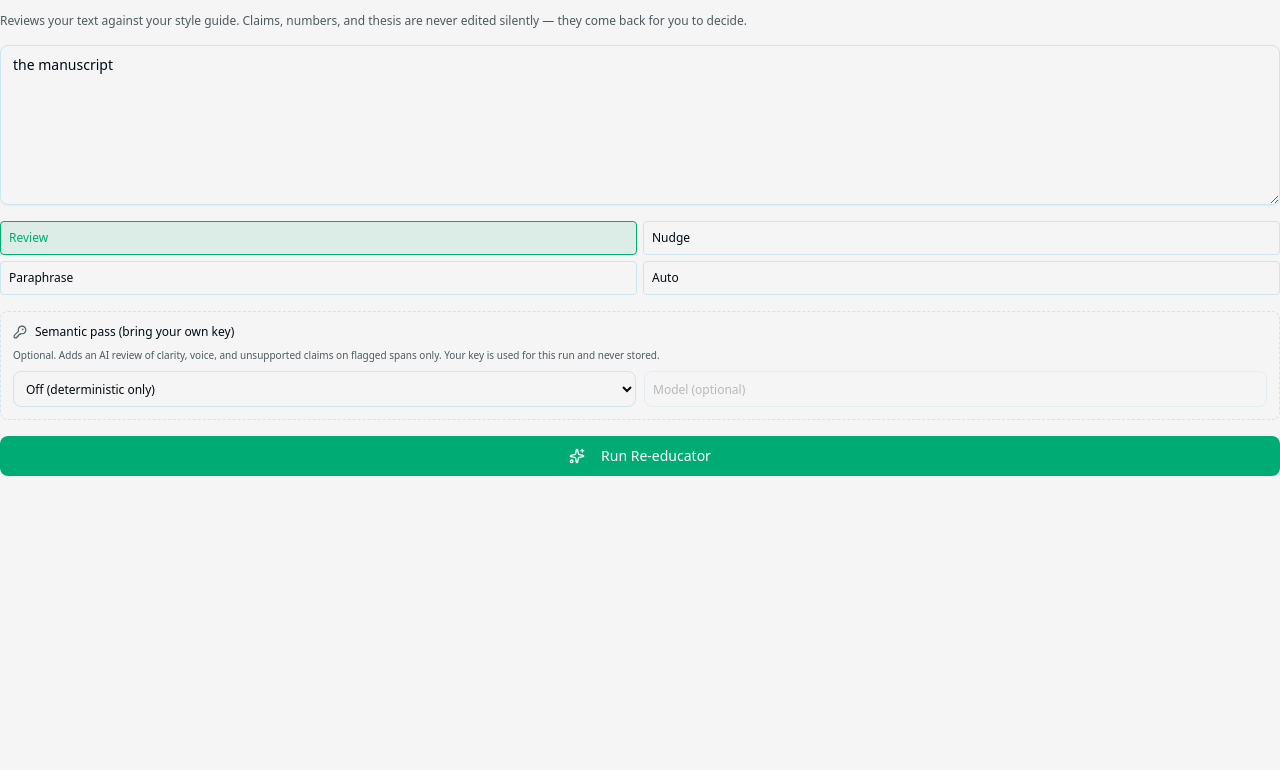
Test: ReEducatorPanel › shows a confirmable diff and applies the revised text on accept
This screenshot has width=1280, height=770.
Click the button "Run Re-educator" at (640, 456), box [0,436,1279,476]
(page scrolled)
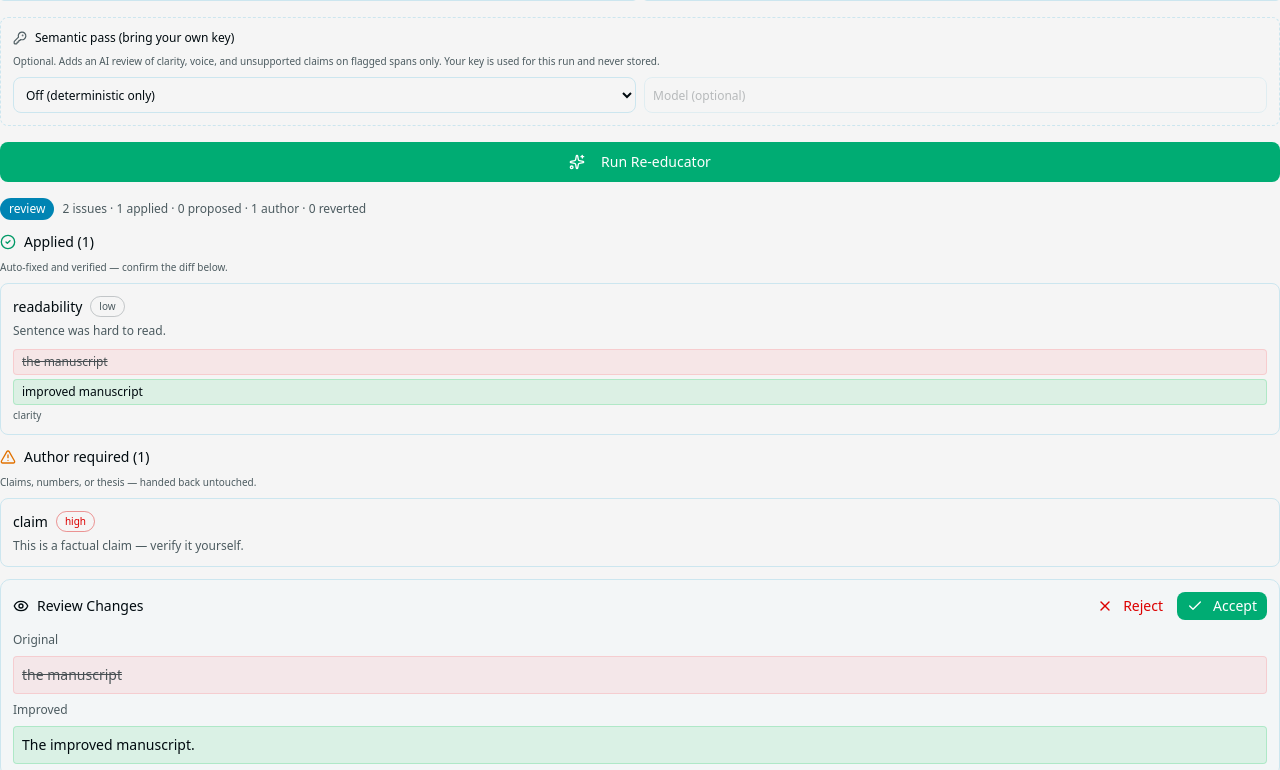
Expected: the text "Review Changes" is shown, [13,596,144,616]
Click the button "Accept" at (1222, 606), box [1177,592,1267,620]
(page scrolled)
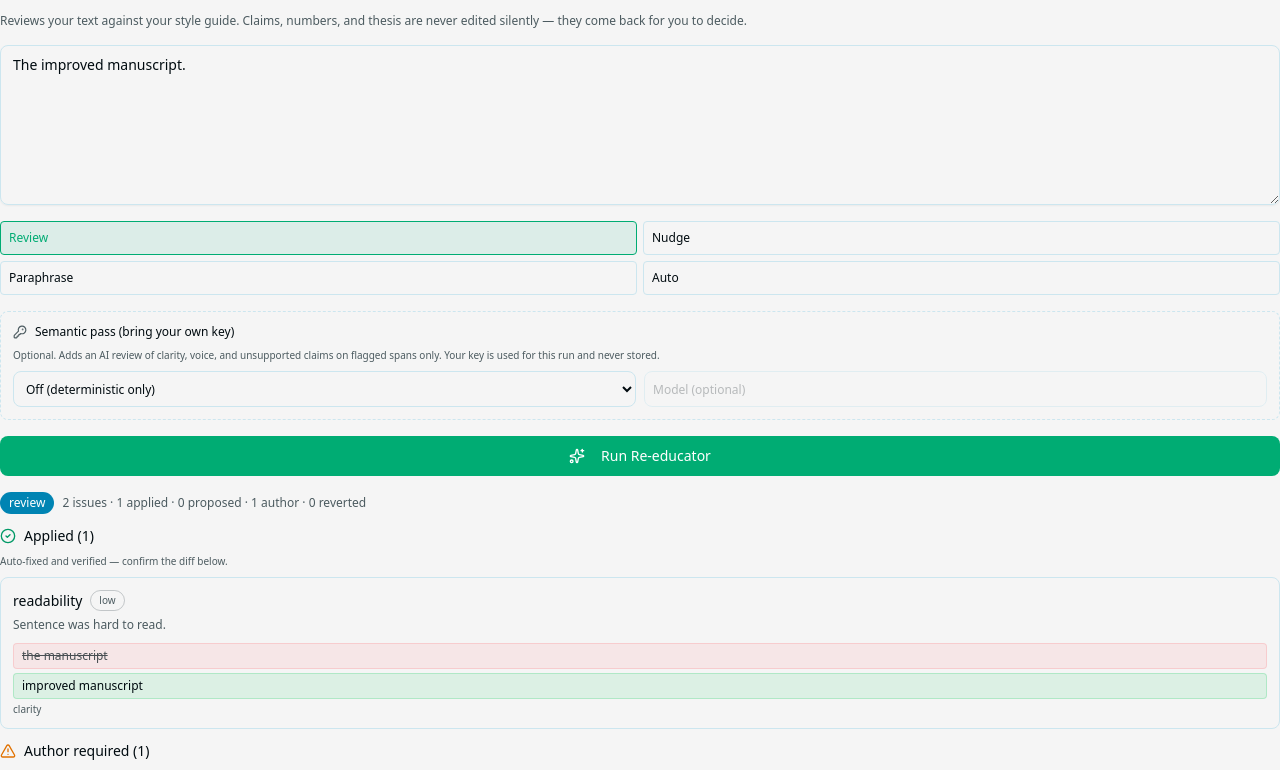
Expected: the text box with placeholder "Paste the text you want reviewed…" holds "The improved manuscript.", [0,45,1279,205]
